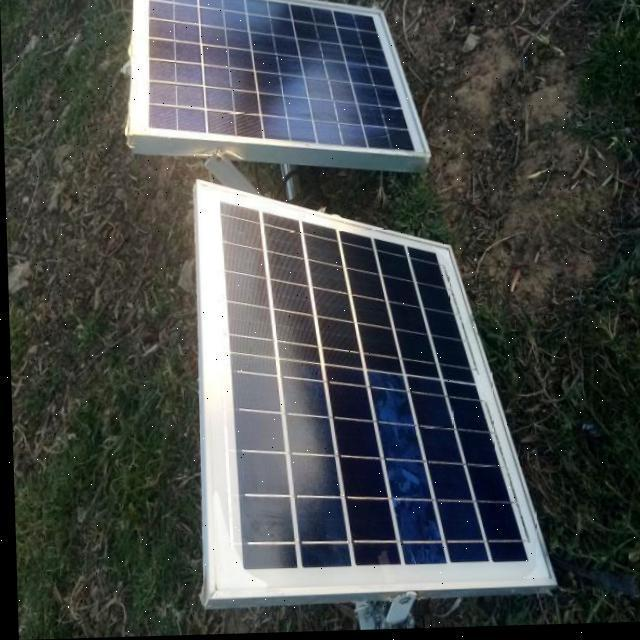Normal Solar Panel: (197, 179, 551, 600), (127, 0, 425, 161)
